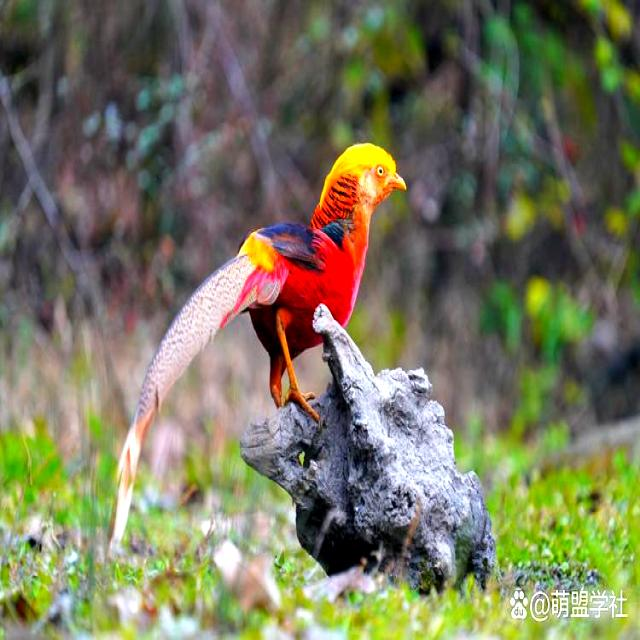Chrysolophus pictus feather: (113, 255, 279, 543)
